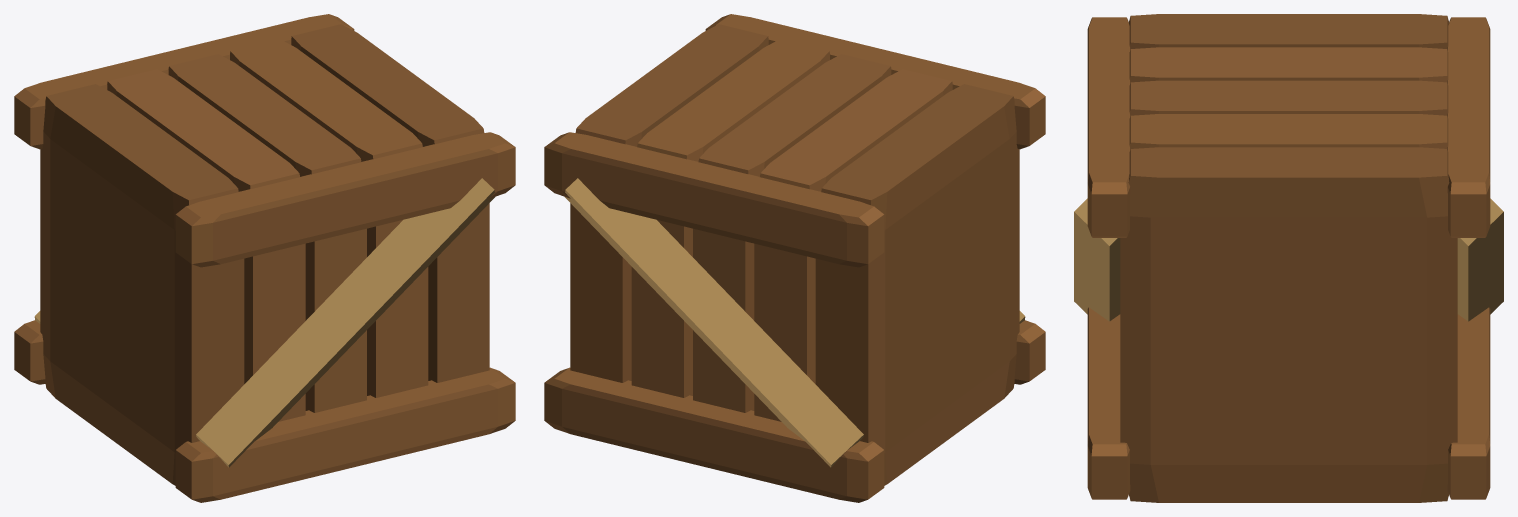
The model's file is Crate.glb.
3 views of the same model, side by side, from view 1: azimuth 30°, elevation 25°; view 2: azimuth 150°, elevation 25°; view 3: azimuth 270°, elevation 25° (orthographic). The views are drawn at different scales.
Parts seen in each view (by area): view 1: Crate; view 2: Crate; view 3: Crate.
Boxes of the visible parts, left/top/right/bottom form: Crate: left=14, top=14, right=515, bottom=502; Crate: left=544, top=14, right=1045, bottom=502; Crate: left=1074, top=14, right=1503, bottom=502.
Bounding box in the file's own units: 0.95 × 0.82 × 0.982.
